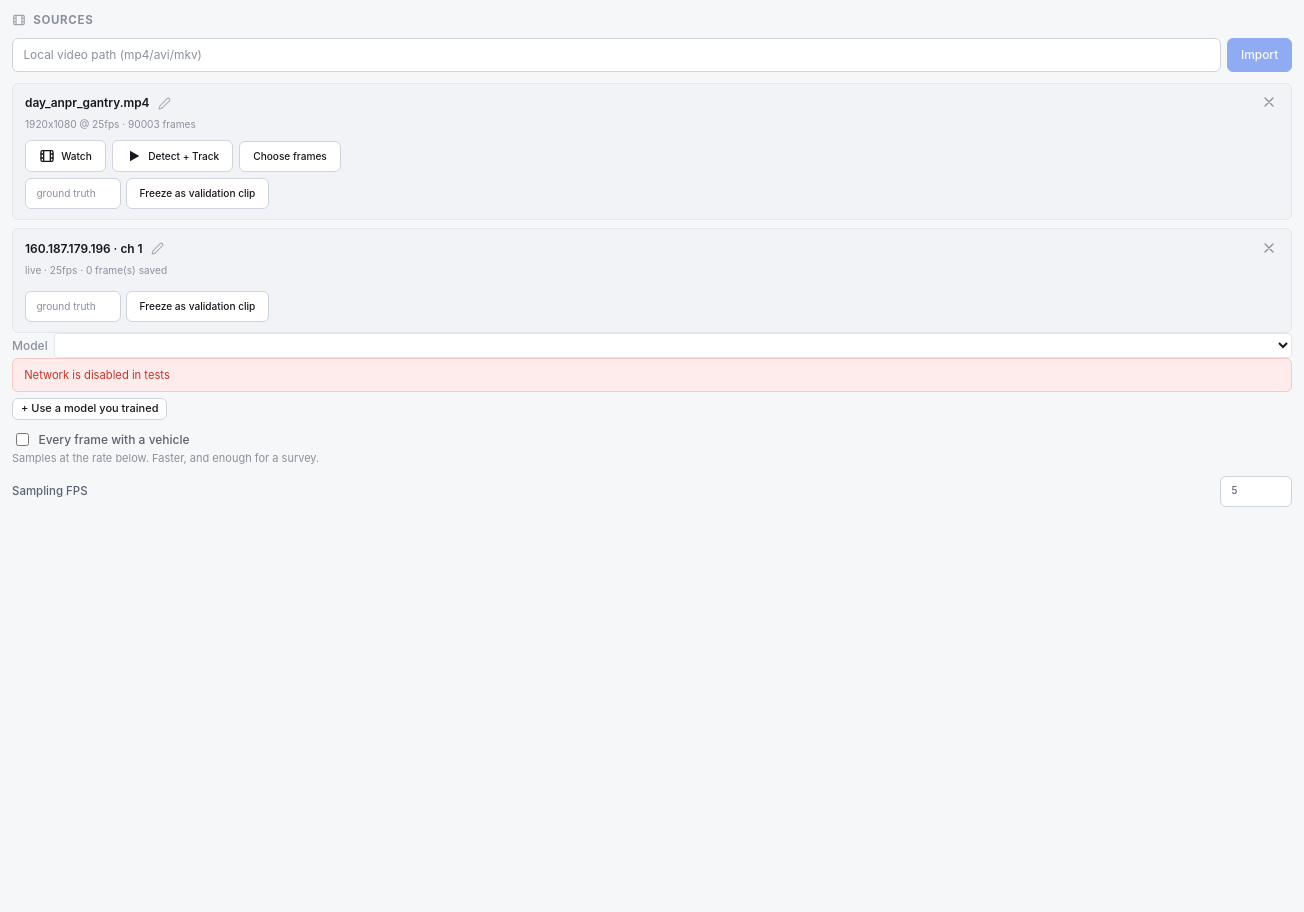
SourcePanel: removing a source › refuses while work is running against it
Check: the button "day_anpr_gantry.mp4" is shown, box [25,94,150,112]
Click the button named "Remove day_anpr_gantry.mp4" at coordinates (1269, 102), box [1254,91,1284,113]
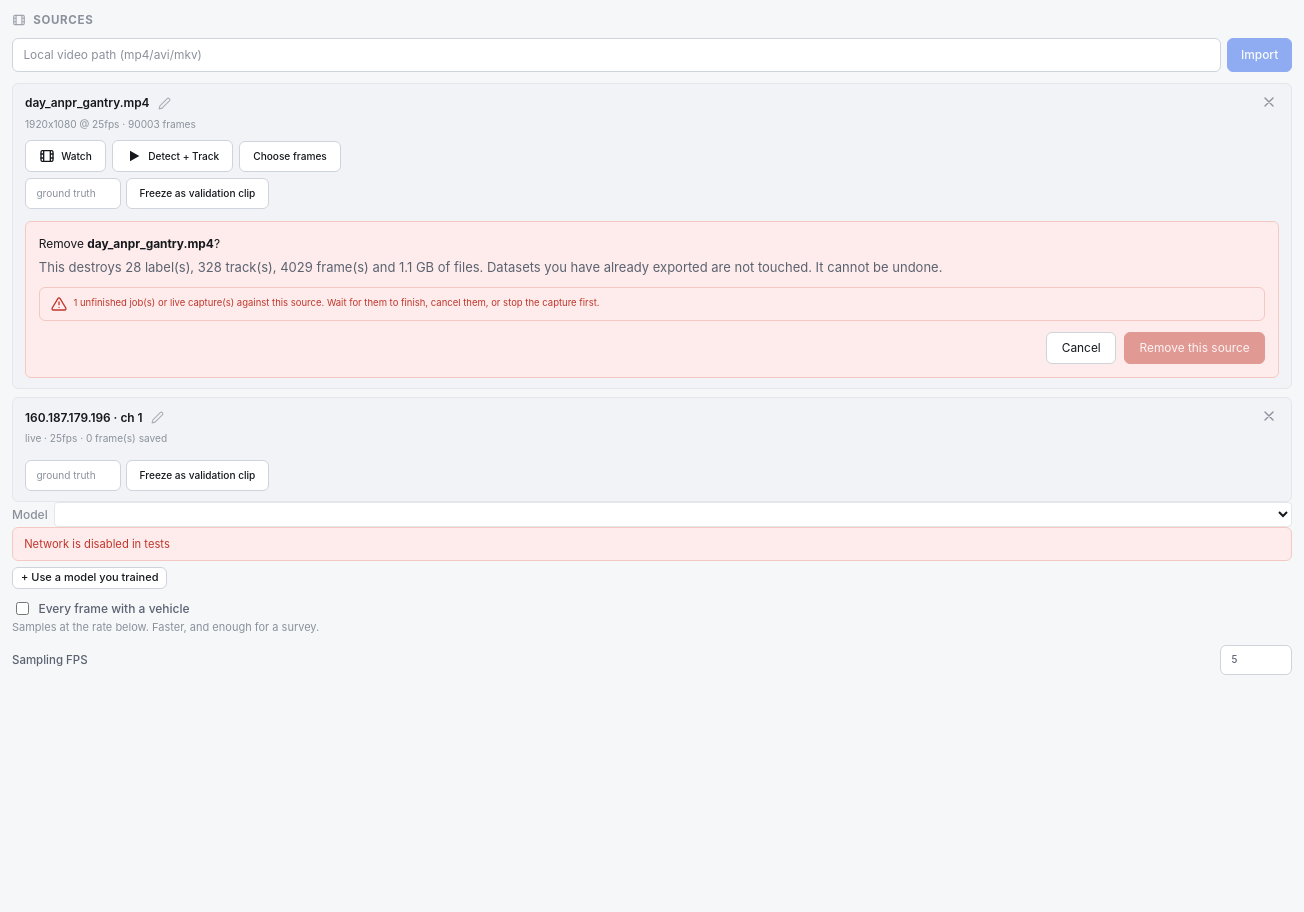
Check: the text "1 unfinished job(s) or live capture(s)" is shown, box [39,287,1265,321]
Check: the button "Remove this source" is disabled, box [1124,332,1265,364]
